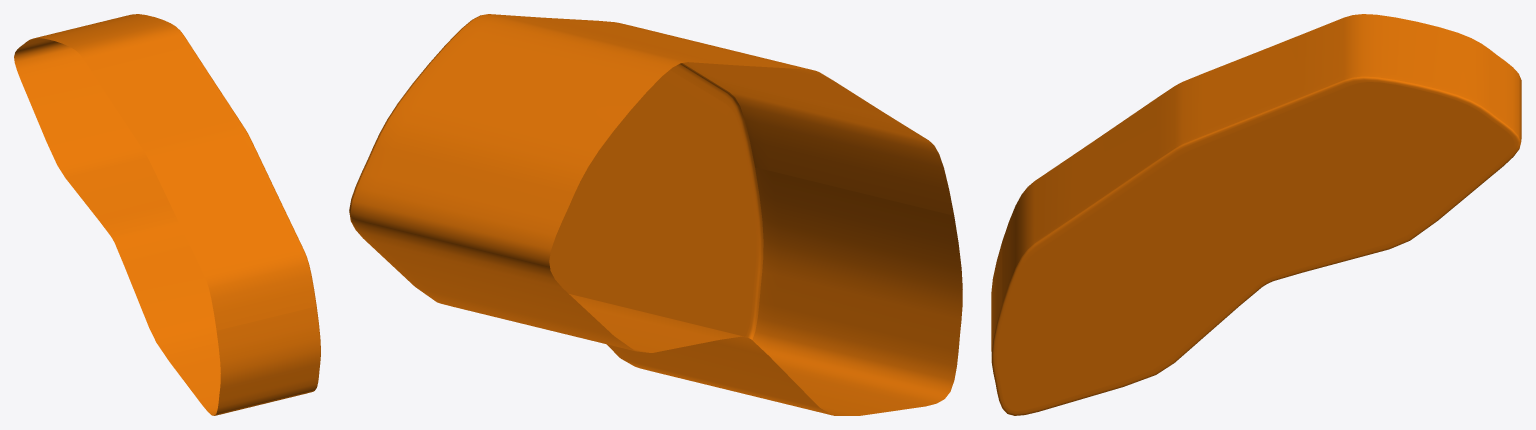
Rendered from Caliper_001.fbx.
The picture shows the model from 3 angles, left to right: view 1: azimuth 30°, elevation 25°; view 2: azimuth 150°, elevation 25°; view 3: azimuth 270°, elevation 25°; orthographic projection. The views are drawn at different scales.
Parts seen in each view (by area): view 1: Caliper_Low; view 2: Caliper_Low; view 3: Caliper_Low.
Part boxes in pixels (x1,y1,x2,y2): Caliper_Low: (14, 14, 320, 415); Caliper_Low: (349, 14, 962, 415); Caliper_Low: (991, 14, 1521, 415).
Bounding box in the file's own units: 6.37 × 15.97 × 22.57.
